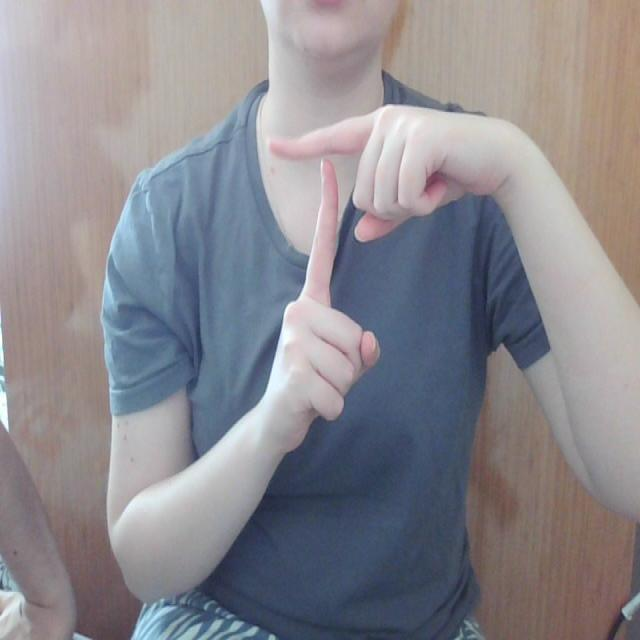Tesekkurler: (261, 92, 396, 342)
